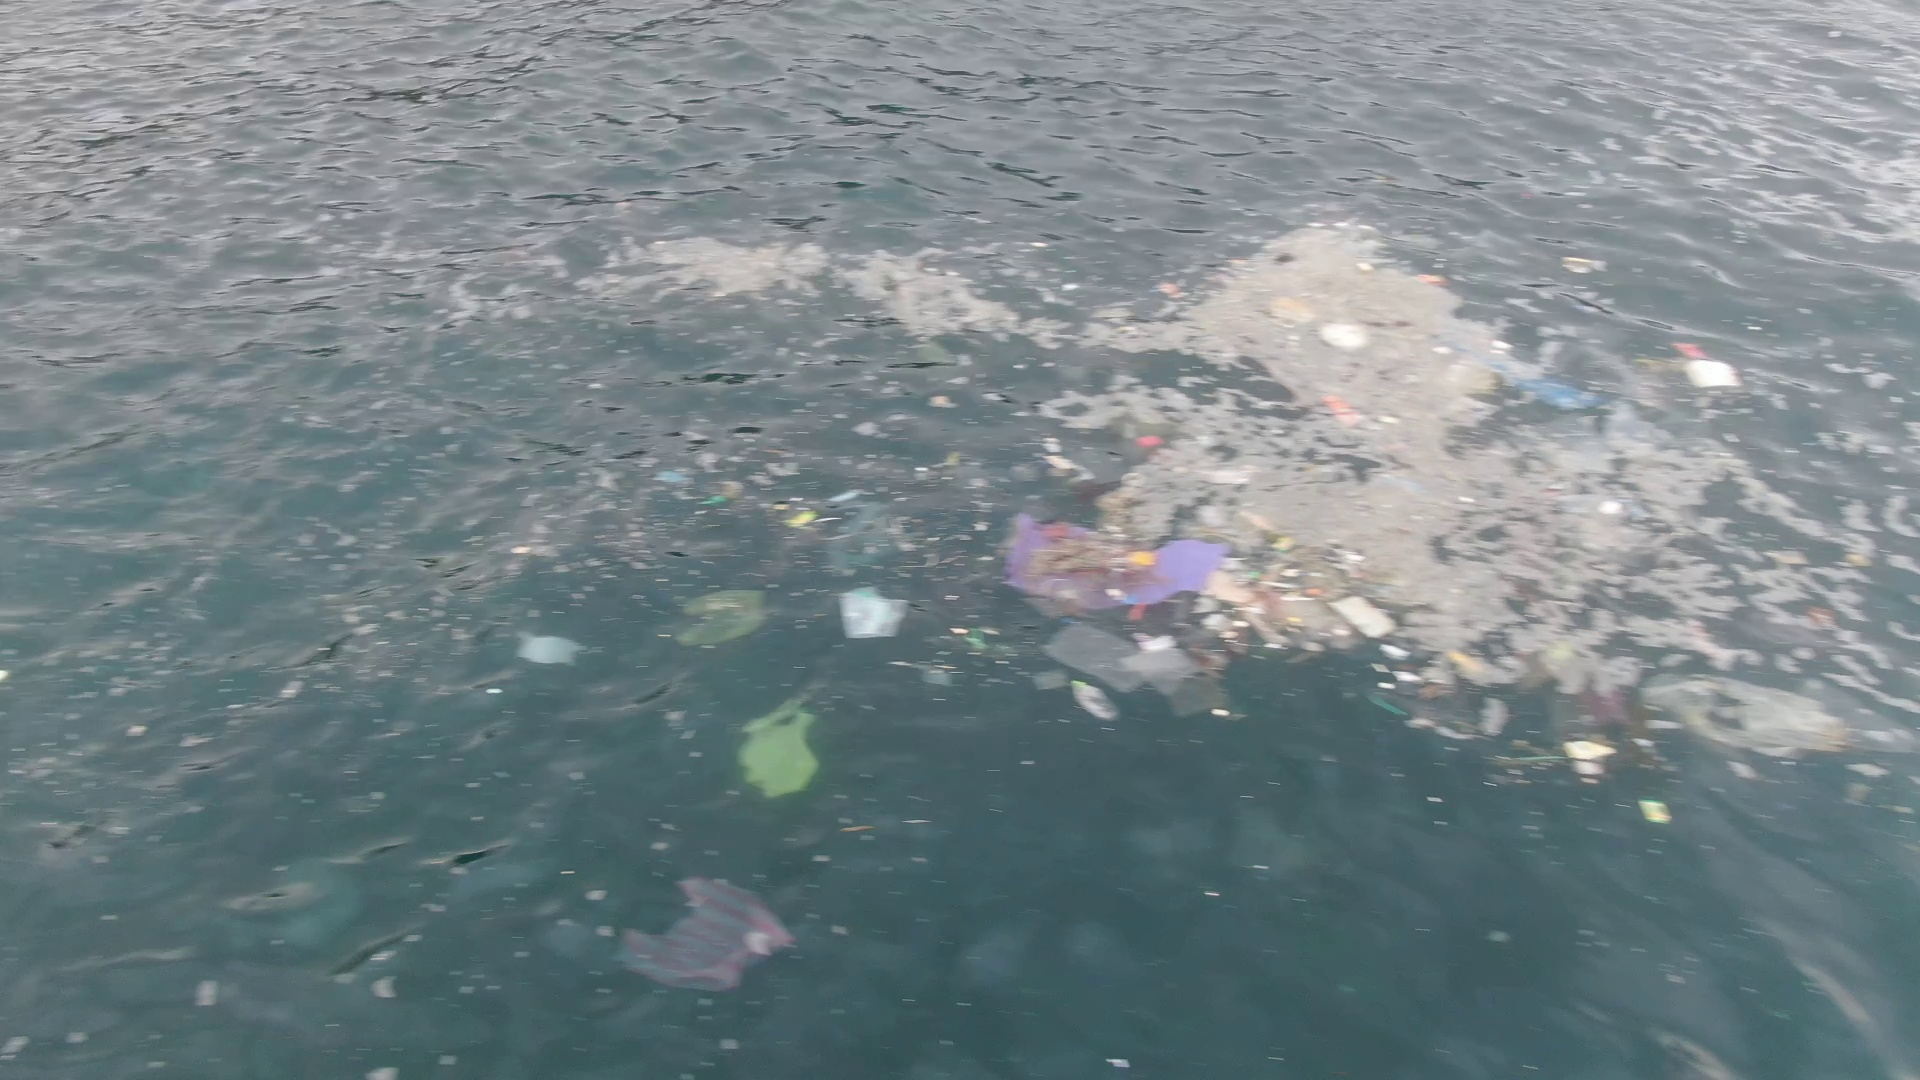bottle: (1069, 680, 1121, 720)
garbage: (1000, 465, 1389, 654), (1367, 649, 1617, 781), (621, 876, 793, 990), (1127, 640, 1236, 723), (742, 705, 822, 803), (1042, 624, 1145, 688), (674, 588, 771, 651), (837, 585, 909, 645), (1669, 342, 1742, 390), (1511, 377, 1602, 413), (520, 632, 588, 669), (1315, 319, 1373, 349), (1321, 392, 1364, 429), (1561, 255, 1611, 273), (1636, 799, 1672, 822), (781, 510, 819, 527), (694, 493, 729, 504), (1135, 435, 1162, 448), (1418, 272, 1444, 284), (1153, 281, 1178, 293)
